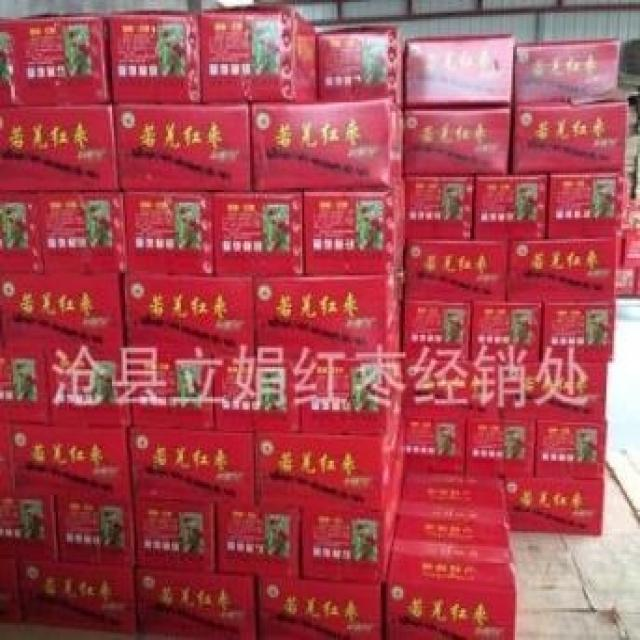box: (256, 403, 401, 508), (254, 258, 401, 358), (250, 98, 403, 190), (384, 540, 517, 640), (200, 4, 317, 105), (116, 102, 250, 190), (300, 469, 403, 580), (125, 273, 254, 354), (302, 326, 399, 433), (0, 105, 119, 190), (302, 183, 405, 275), (0, 271, 125, 346), (13, 11, 112, 105), (131, 429, 256, 503), (11, 422, 131, 499), (108, 9, 200, 102), (513, 100, 629, 173), (136, 570, 256, 640), (24, 561, 134, 636), (405, 34, 515, 107), (125, 192, 216, 277), (213, 190, 302, 275), (259, 580, 383, 640), (317, 26, 405, 107), (405, 107, 509, 175), (49, 343, 132, 427), (39, 192, 125, 273), (129, 348, 215, 429), (215, 354, 300, 433), (509, 237, 616, 299), (515, 41, 619, 102), (502, 361, 608, 420), (405, 241, 508, 299), (218, 506, 300, 578), (396, 497, 511, 548), (403, 363, 508, 418), (134, 503, 216, 572), (506, 476, 605, 533), (56, 495, 132, 565), (474, 175, 547, 239), (470, 301, 545, 363), (549, 173, 618, 239), (541, 301, 614, 363), (405, 175, 474, 239), (0, 339, 52, 422), (465, 418, 537, 476), (536, 420, 606, 478), (401, 299, 472, 356), (403, 469, 506, 506), (0, 493, 56, 559), (0, 192, 45, 273), (403, 418, 465, 471), (0, 559, 22, 619), (0, 19, 13, 105), (0, 422, 15, 495), (619, 228, 640, 267), (616, 269, 634, 294)
